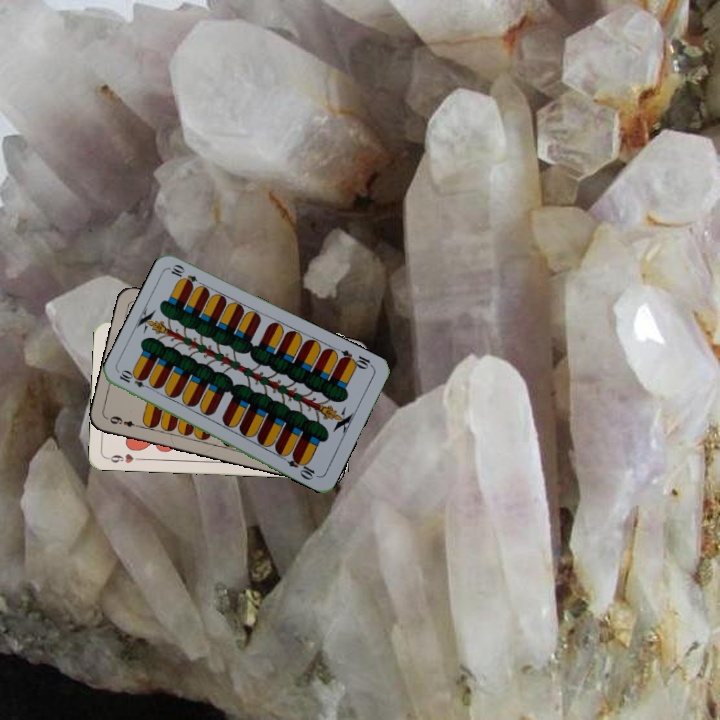E10: (336, 346, 376, 372), (115, 367, 155, 392)
E9: (106, 412, 144, 430)
H9: (103, 450, 144, 466)
